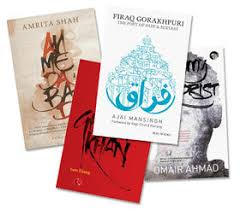book: (91, 7, 194, 146), (55, 59, 150, 204), (6, 8, 102, 151), (143, 46, 231, 181)
